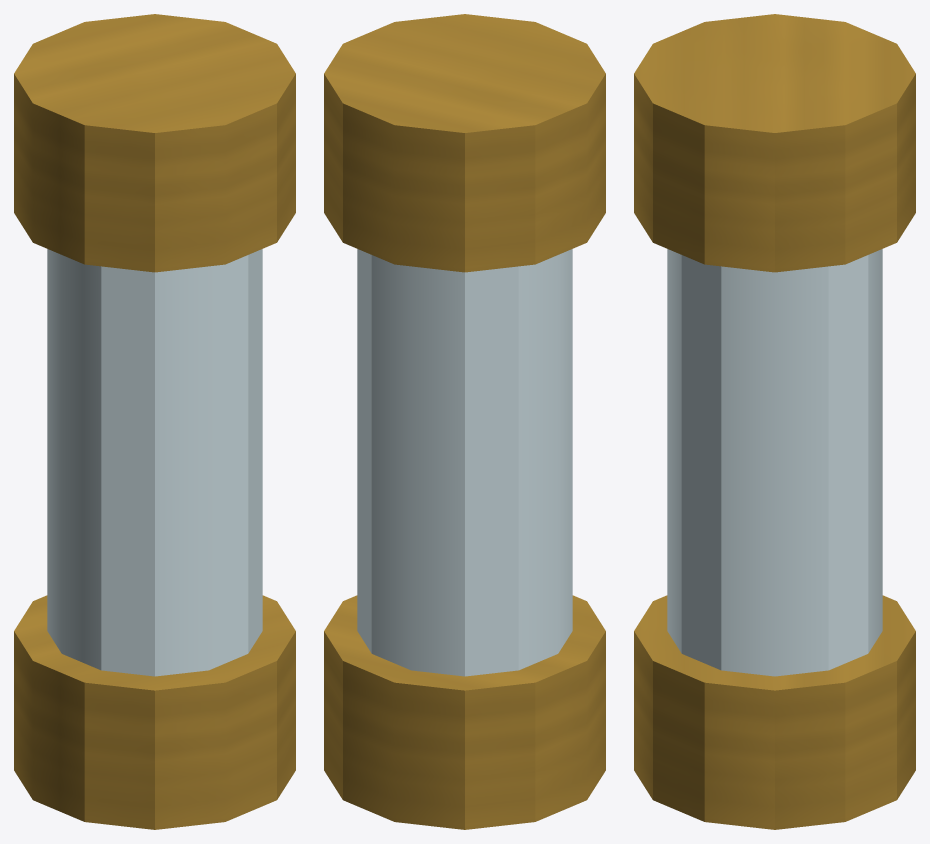
Rendered from Item_Fuse.fbx.
3 views of the same model, side by side, from view 1: azimuth 30°, elevation 25°; view 2: azimuth 150°, elevation 25°; view 3: azimuth 270°, elevation 25° (orthographic).
Visible parts, largest first — view 1: Item_Fuse; view 2: Item_Fuse; view 3: Item_Fuse.
Boxes of the visible parts, x1=… form: Item_Fuse: x1=14, y1=14, x2=295, y2=829; Item_Fuse: x1=324, y1=14, x2=605, y2=829; Item_Fuse: x1=634, y1=14, x2=915, y2=829.
Bounding box in the file's own units: 0.11 × 0.3 × 0.11.
3 materials, 1 textured.
